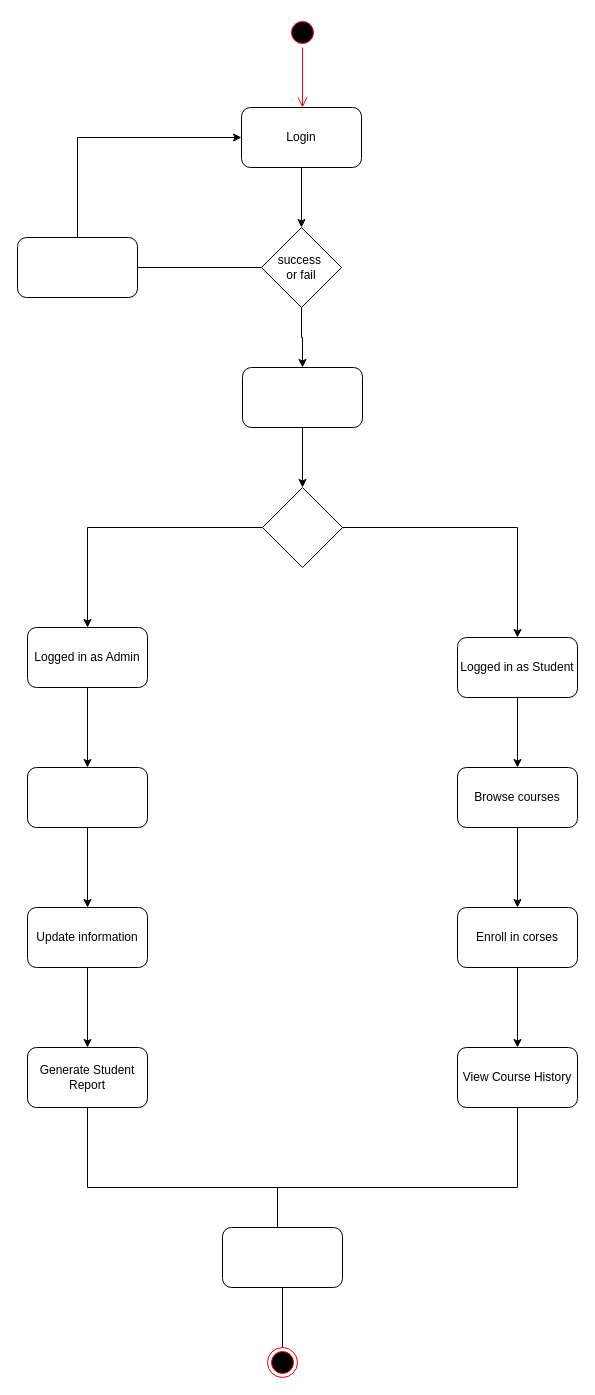
Image size: 595x1395. Some labels were removed from this diagram. The centre of each missing label's shape, as x and y in pixels:
"Login failed try again" belongs at pixel 77 267.
"Login successful" belongs at pixel 302 397.
"Logout" belongs at pixel 282 1257.
"Student or Admin" belongs at pixel 302 527.
"View Student's Record" belongs at pixel 87 797.
